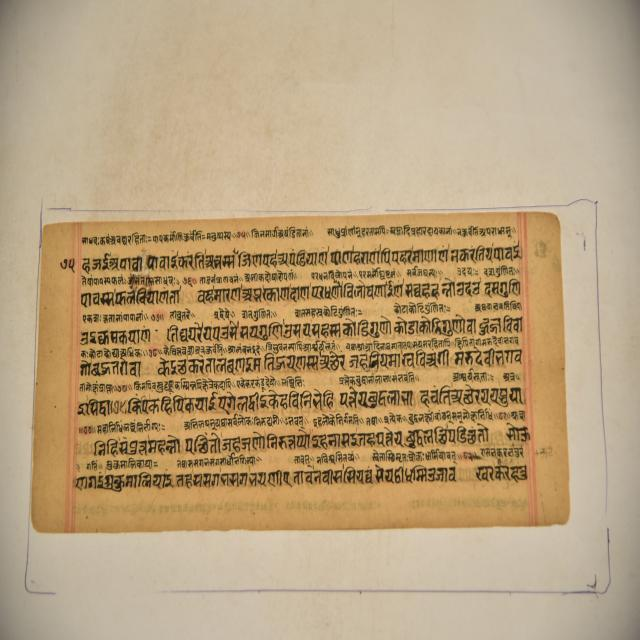text_paragraph: (32, 213, 568, 534)
